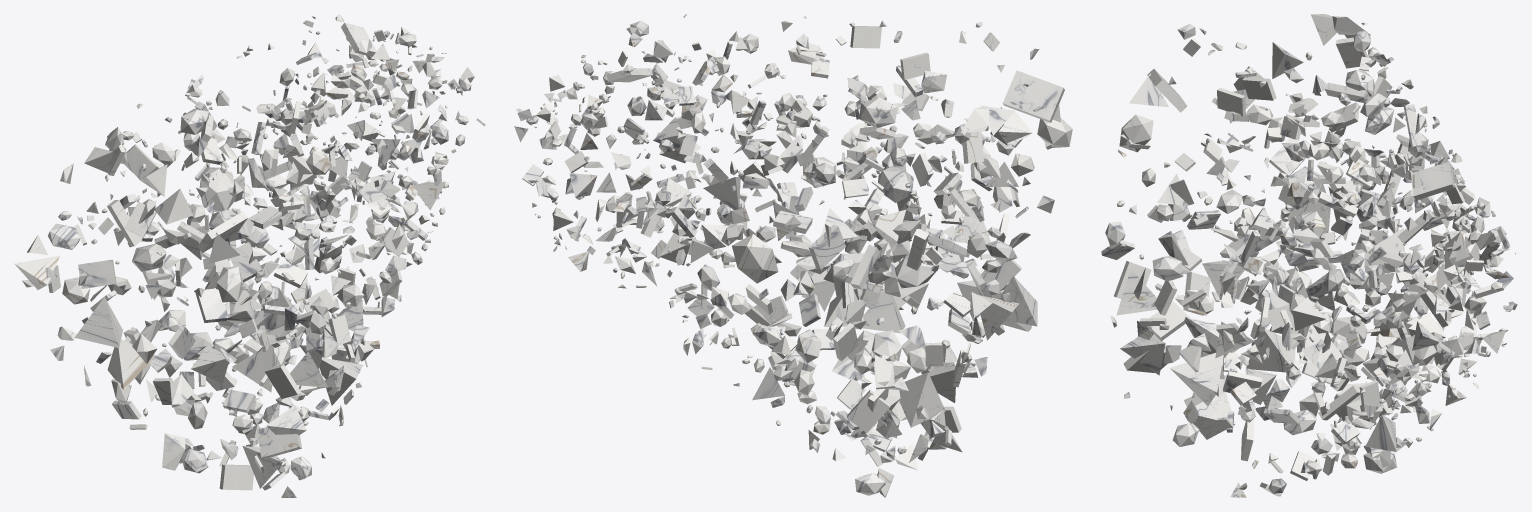
File: hidden-owl-clean.glb
3 renders of one model, left to right at view 1: azimuth 30°, elevation 25°; view 2: azimuth 150°, elevation 25°; view 3: azimuth 270°, elevation 25°, orthographic. The views are drawn at different scales.
Parts seen in each view (by area): view 1: fragments; view 2: fragments; view 3: fragments.
Part boxes in pixels (left/top/right/bottom): fragments: left=14, top=14, right=485, bottom=497; fragments: left=514, top=14, right=1072, bottom=497; fragments: left=1101, top=14, right=1517, bottom=497.
Size of the model in its own units: 6.2 by 5.18 by 4.43.
Materials: 1 (1 with a texture image).
